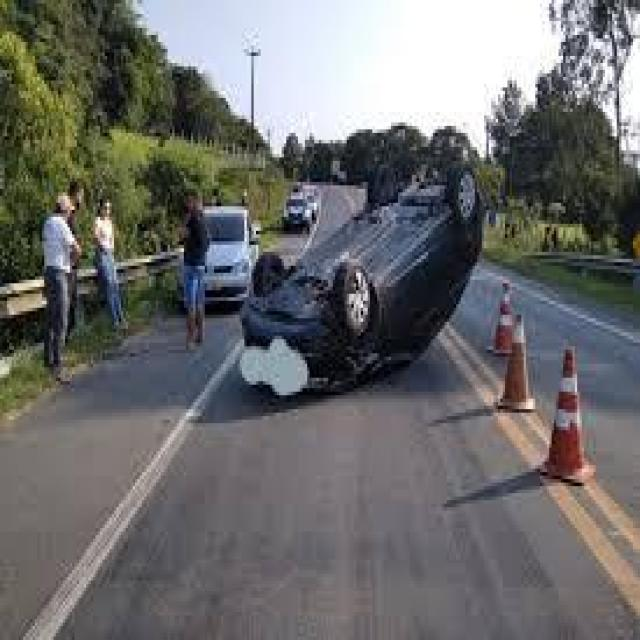severe: (234, 152, 485, 401)
